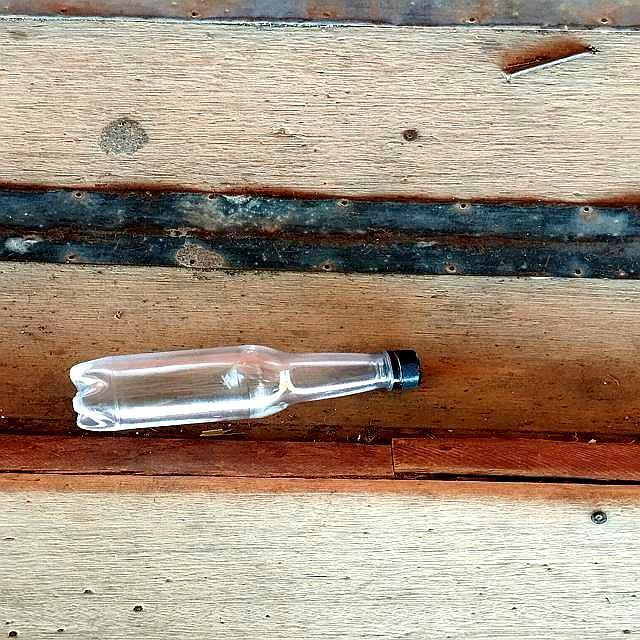Non-biodegradable: (72, 346, 420, 436)
